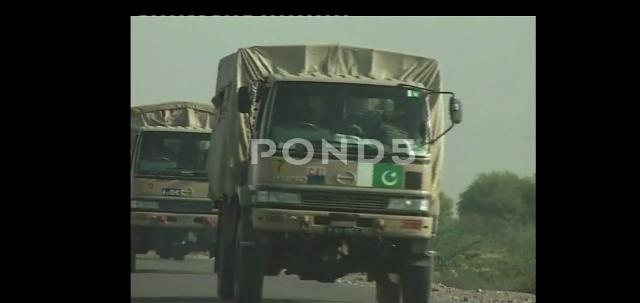plate: (324, 226, 364, 237)
